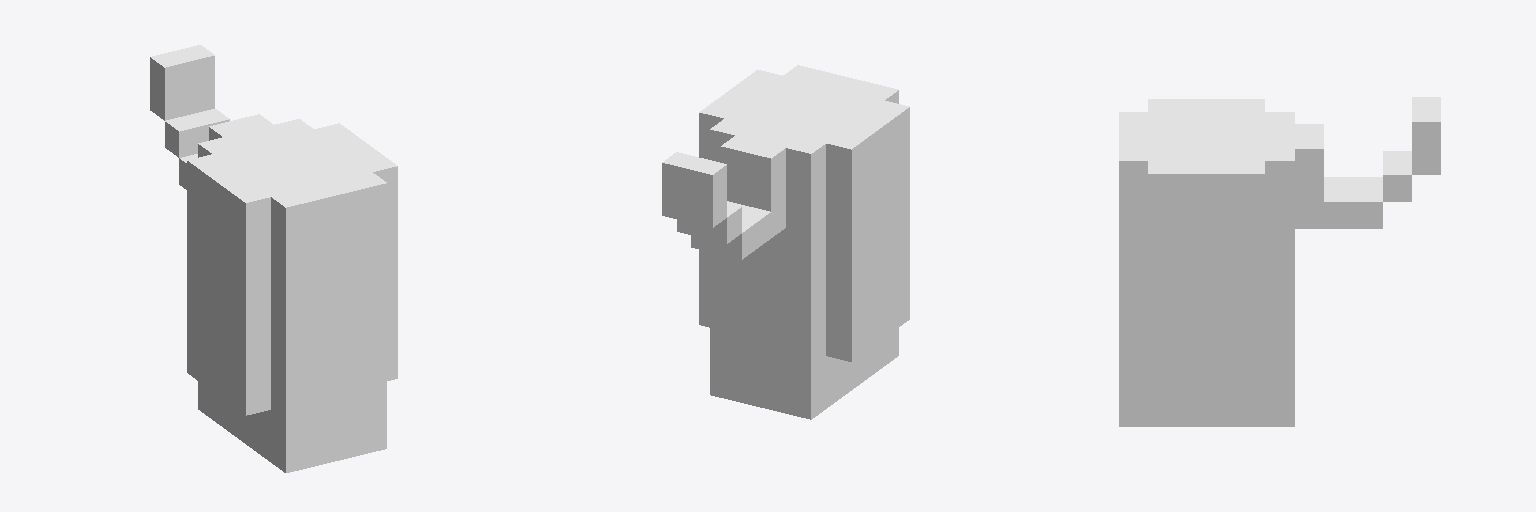
The model's file is M1911Handle.obj.
The picture shows the model from 3 angles: view 1: azimuth 30°, elevation 25°; view 2: azimuth 150°, elevation 25°; view 3: azimuth 270°, elevation 25°; orthographic projection.
Parts seen in each view (by area): view 1: object 1; view 2: object 1; view 3: object 1.
Part boxes in pixels (left/top/right/bottom): object 1: left=150, top=45, right=397, bottom=472; object 1: left=662, top=65, right=909, bottom=419; object 1: left=1119, top=97, right=1440, bottom=426.
Bounding box in the file's own units: 0.6 × 1.1 × 1.1.